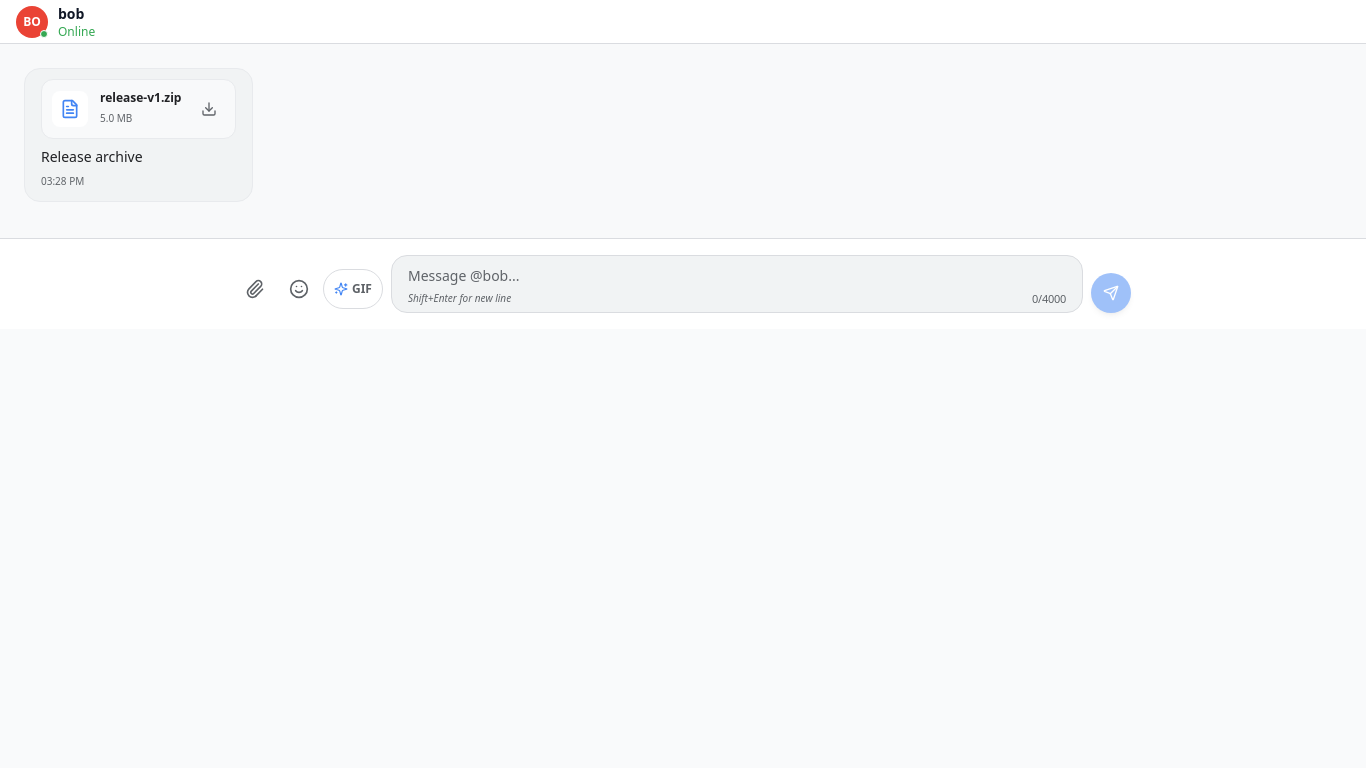
it: File Attachments, Image Preview & Message Cards › In-App Document Preview Modal (Ticket 03) › renders binary metadata summary card with "Download to view" for docx/zip
This screenshot has width=1366, height=768.
Click the element with test id "document-attachment-card" at (139, 109), box left=41, top=79, right=236, bottom=139
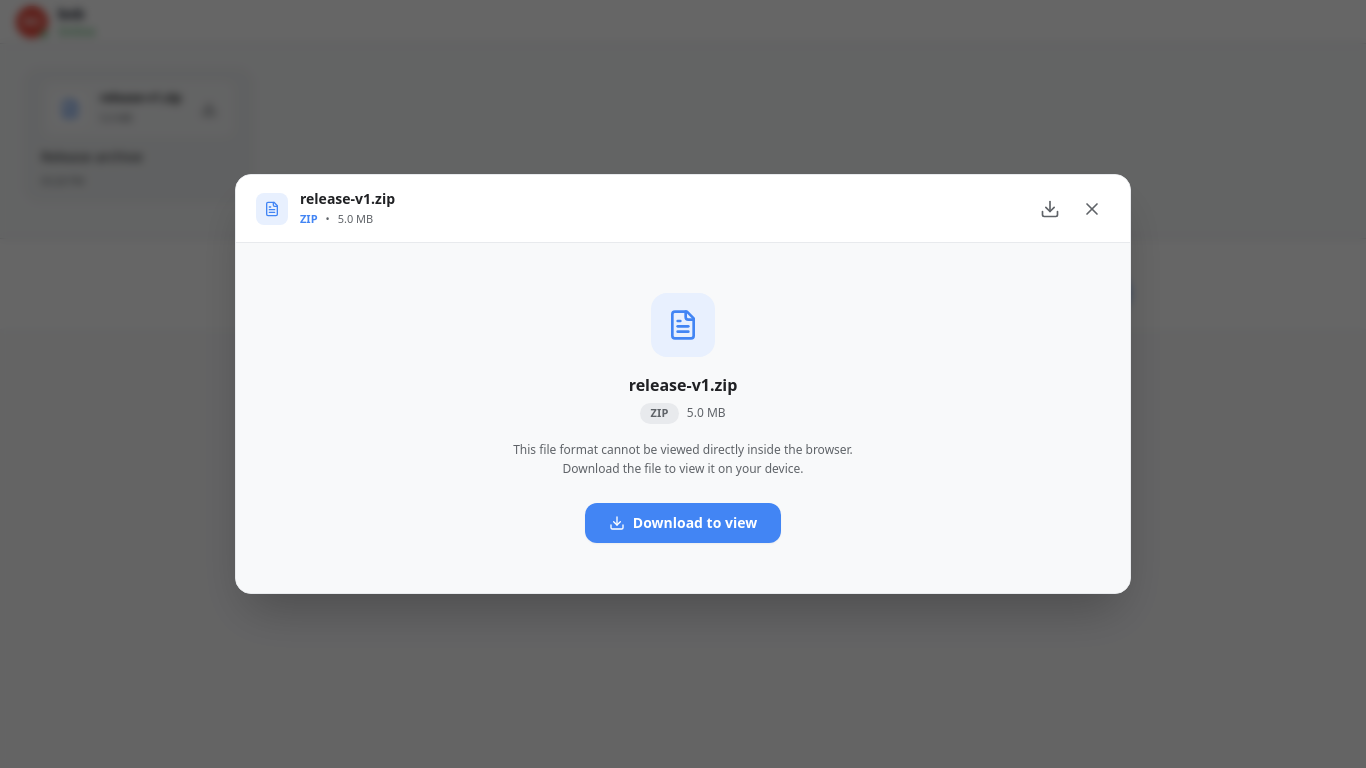
Expected: the element with test id "binary-preview-card" is shown, left=513, top=293, right=853, bottom=542
Expected: the 2nd heading "release-v1.zip" is shown, left=629, top=373, right=737, bottom=397
Expected: the 2nd text "ZIP" is shown, left=640, top=403, right=679, bottom=424
# Dismiss via Escape key
Press Escape
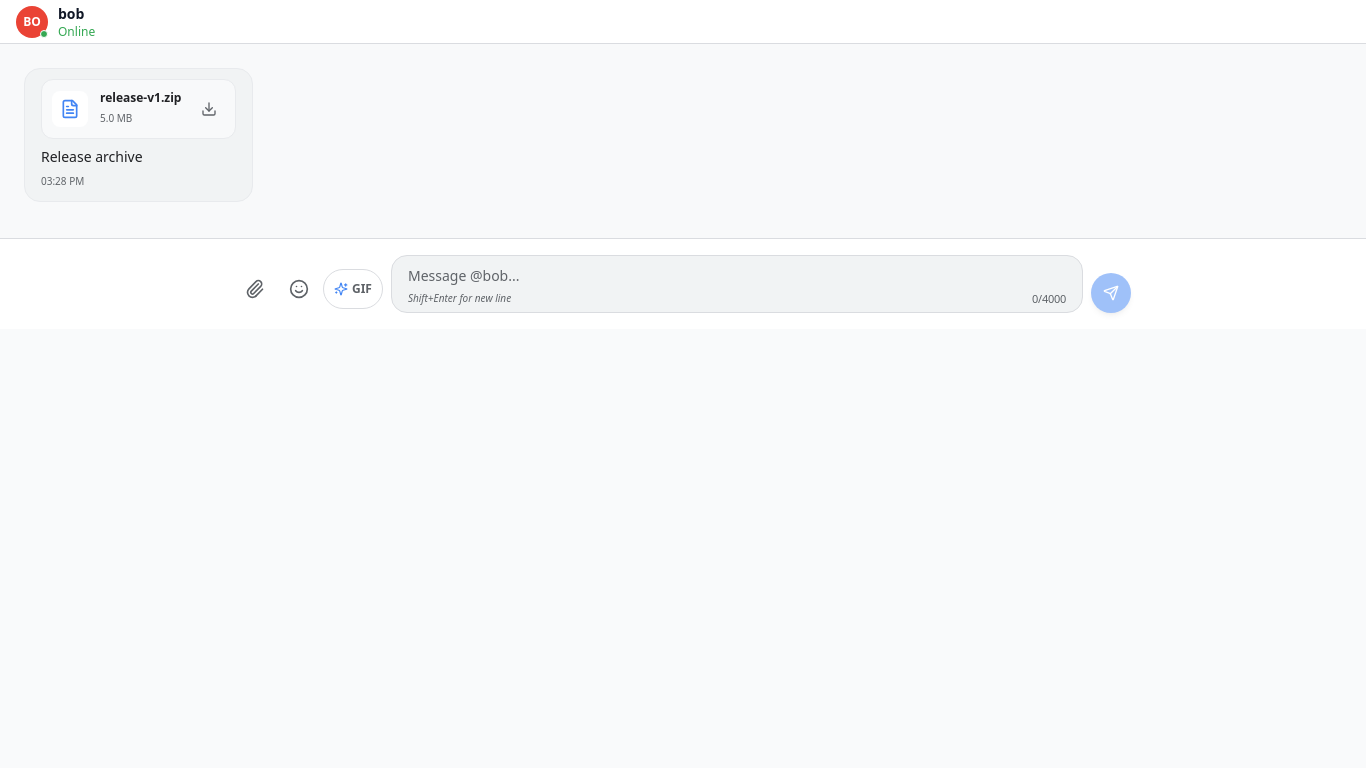
Expected: the element with test id "document-preview-modal" is gone
